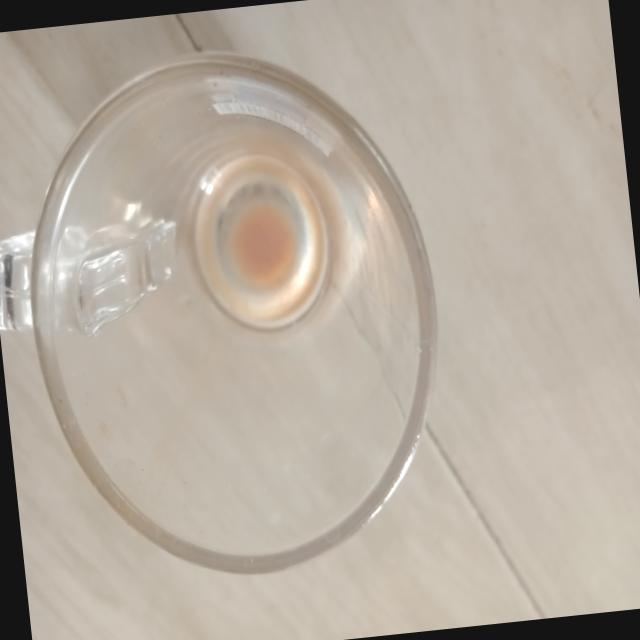glass-VX4N: (0, 40, 466, 604)
